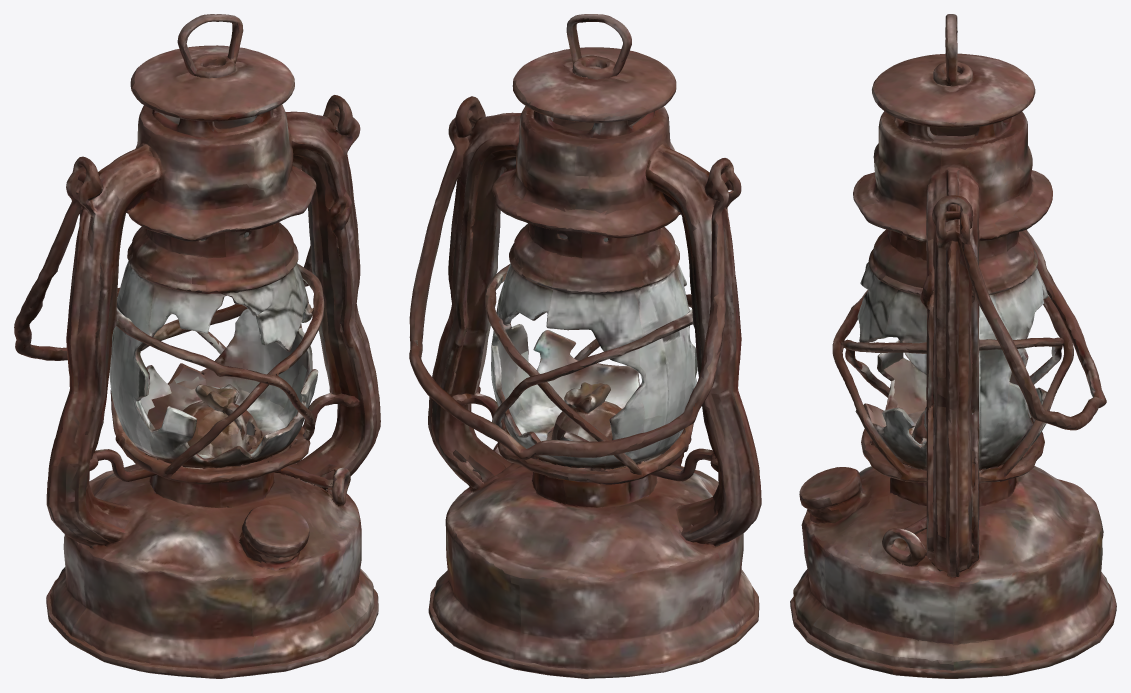
Rendered from oillamp-broken.glb.
The picture shows the model from 3 angles, left to right: view 1: azimuth 30°, elevation 25°; view 2: azimuth 150°, elevation 25°; view 3: azimuth 270°, elevation 25°; orthographic projection.
Visible parts, largest first — view 1: geometry_0; view 2: geometry_0; view 3: geometry_0.
Part boxes in pixels (x1,y1,x2,y2): geometry_0: [14, 14, 380, 678]; geometry_0: [409, 14, 761, 678]; geometry_0: [790, 14, 1116, 678].
Bounding box in the file's own units: 0.1862 × 0.32 × 0.1606.
Materials: 1 (1 with a texture image).
